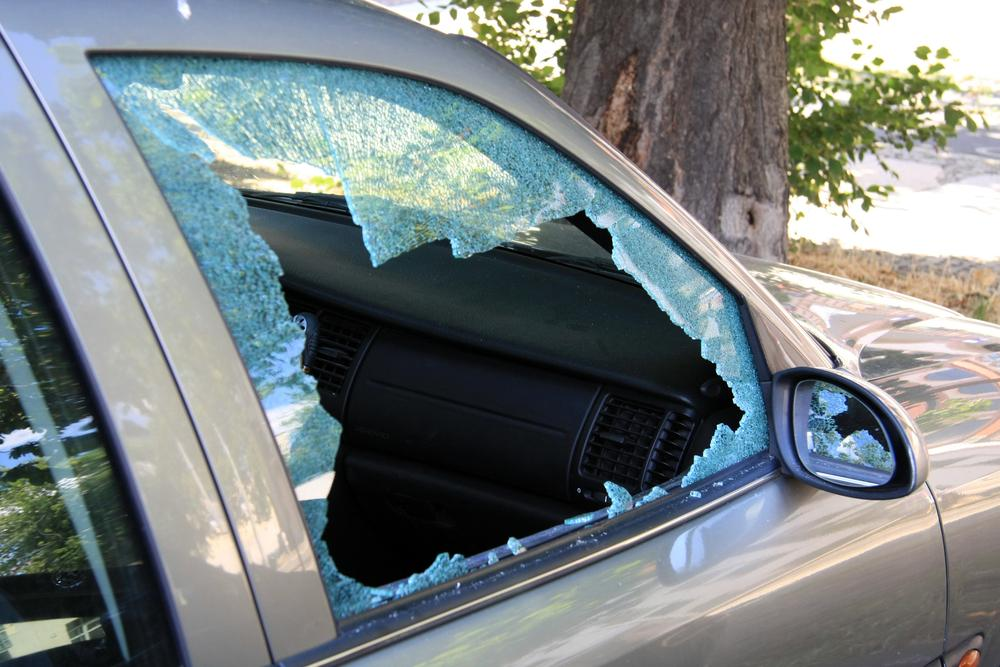glass shatter: (88, 55, 768, 622)
